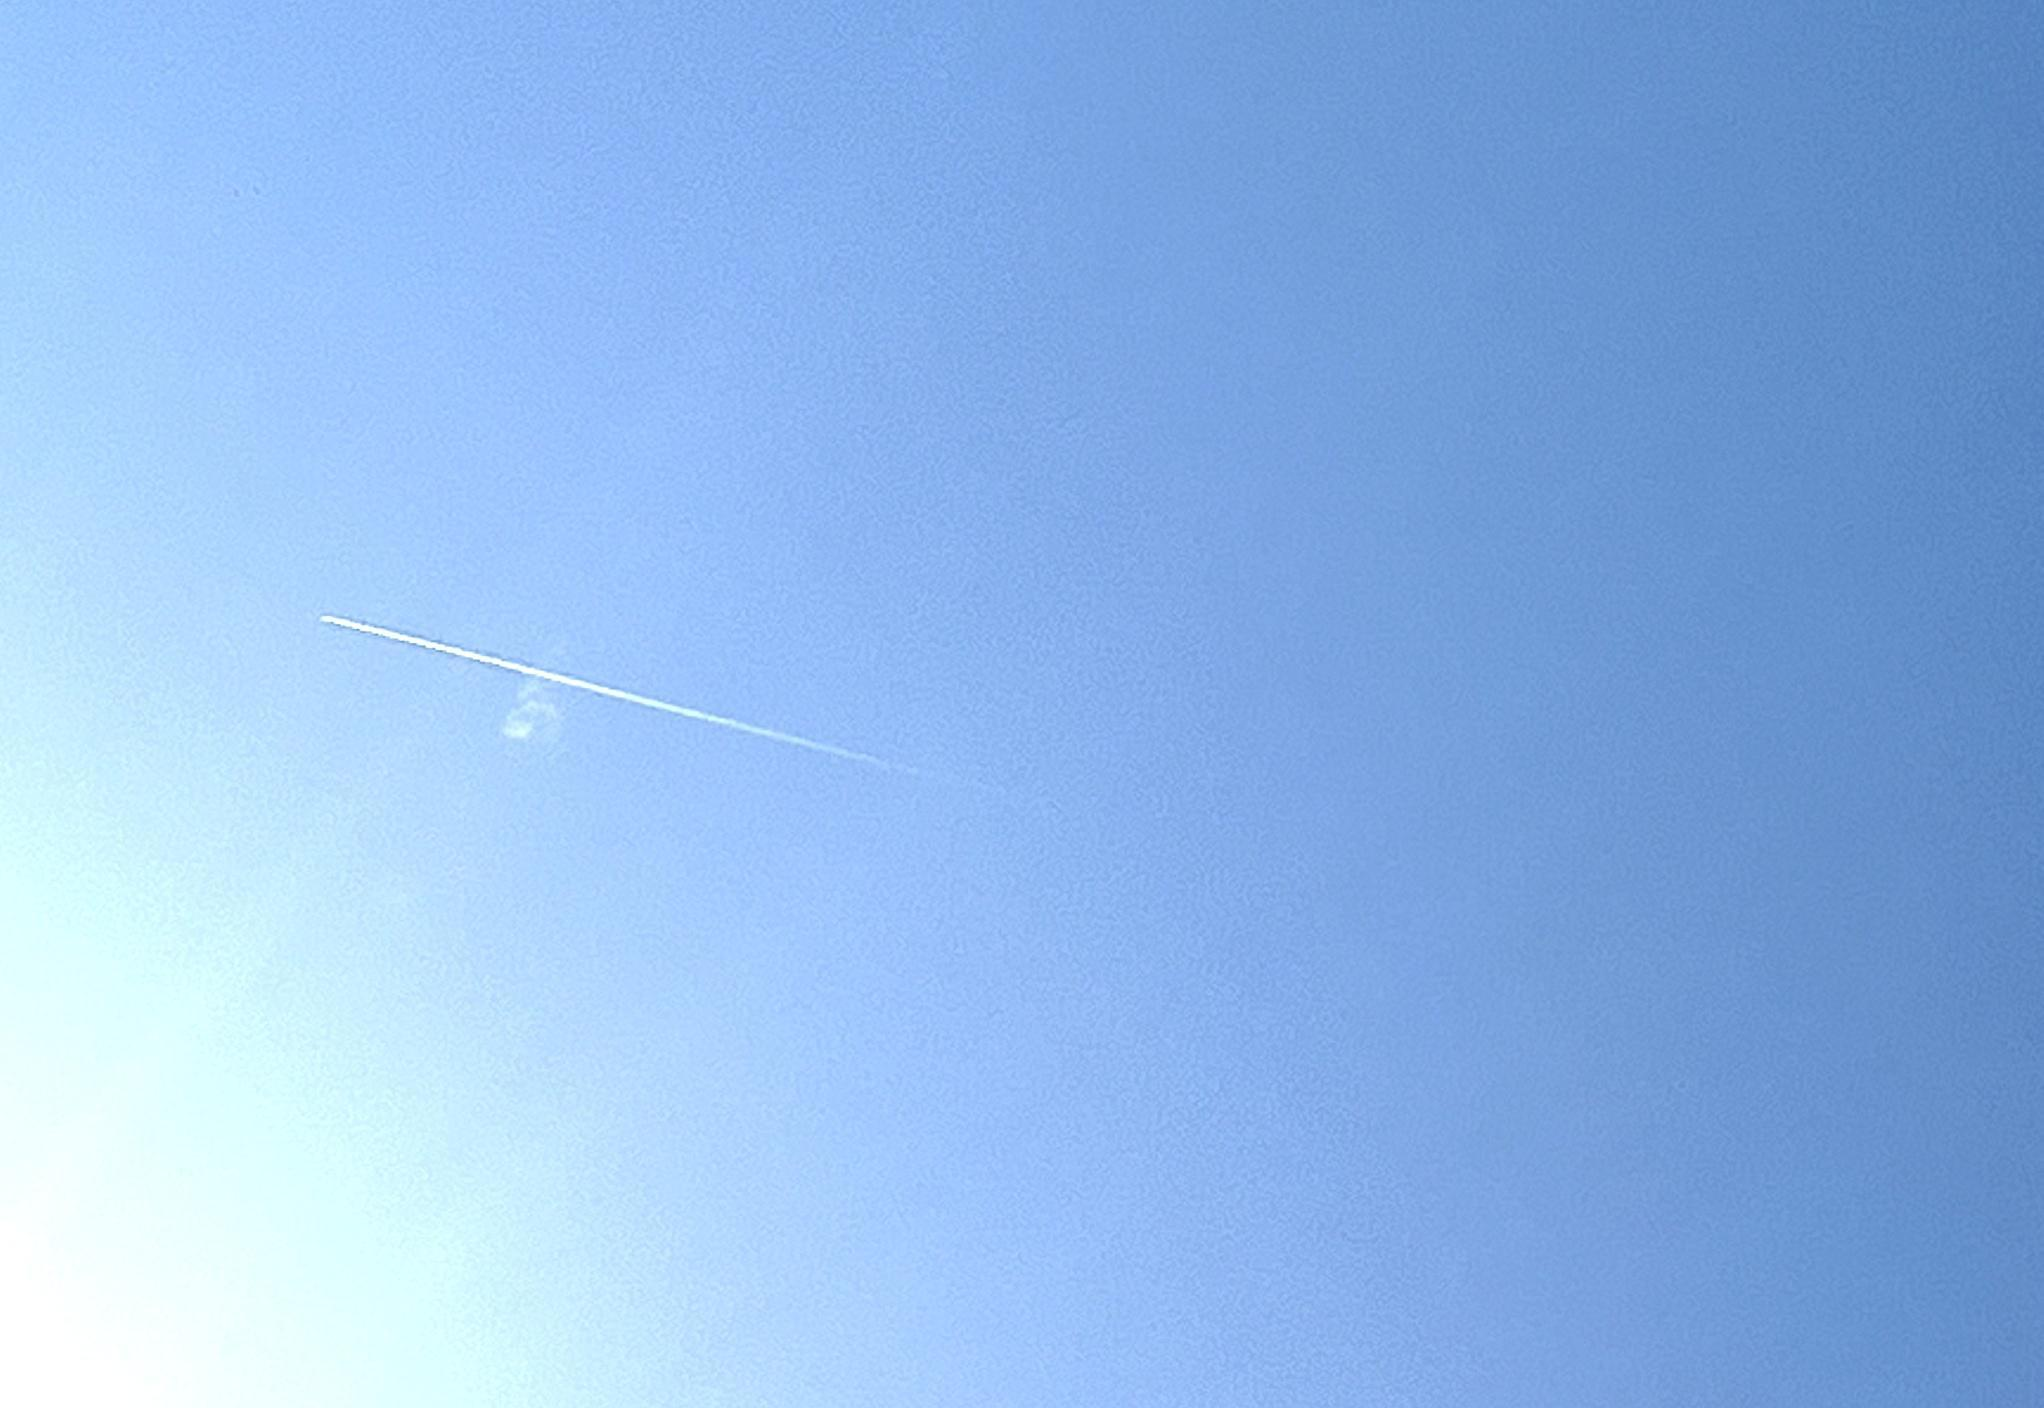Plane: (287, 591, 941, 773)
